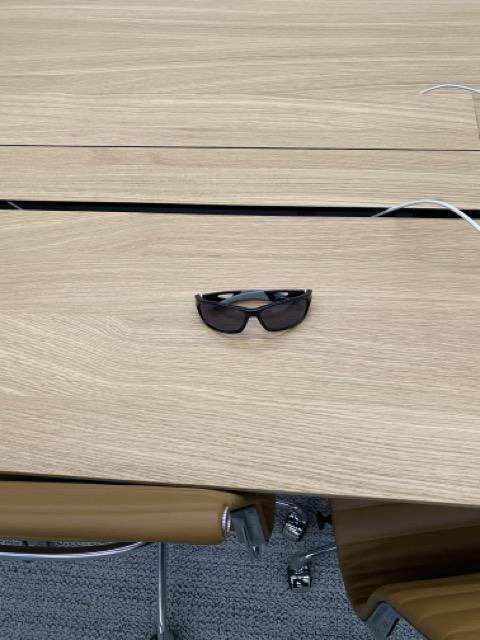Sunglasses: (196, 289, 314, 334)
